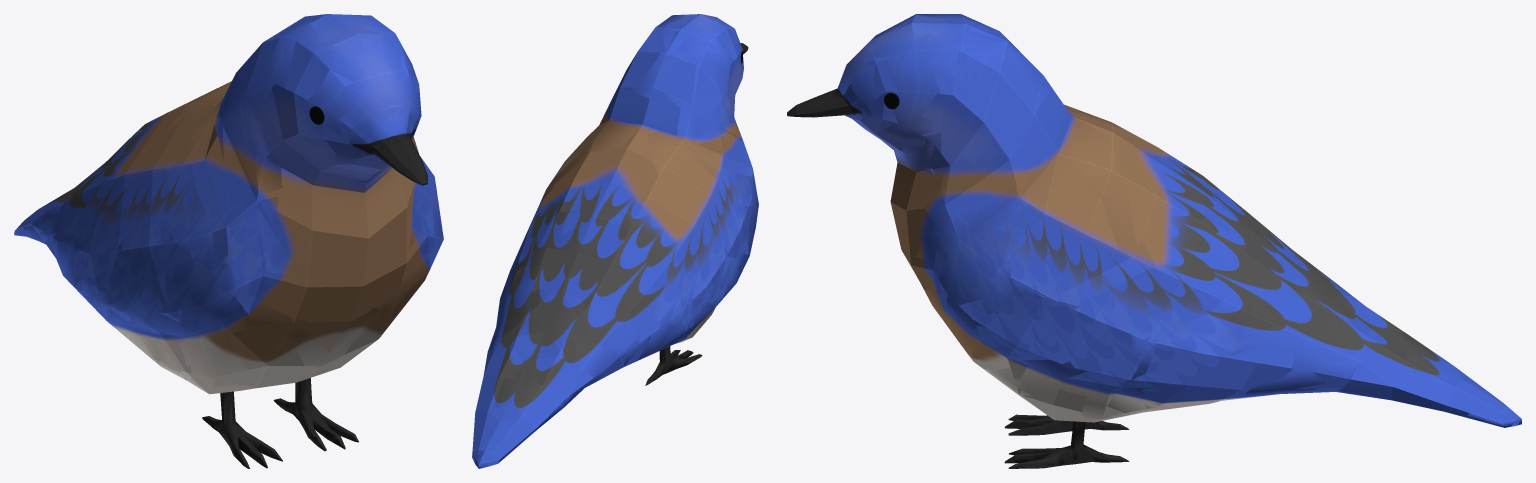
File: Westernbluebird.glb
3 views of the same model, side by side, from view 1: azimuth 30°, elevation 25°; view 2: azimuth 150°, elevation 25°; view 3: azimuth 270°, elevation 25° (orthographic). The views are drawn at different scales.
Parts seen in each view (by area): view 1: origin, WesternBluebird_Mesh_cell.032, WesternBluebird_Mesh_cell.064, WesternBluebird_Mesh_cell.018, WesternBluebird_Mesh_cell.040, WesternBluebird_Mesh_cell.057, WesternBluebird_Mesh_cell.036, WesternBluebird_Mesh_cell.007, WesternBluebird_Mesh_cell.061, WesternBluebird_Mesh_cell.010, WesternBluebird_Mesh_cell.029, WesternBluebird_Mesh_cell.021 (+6 smaller); view 2: origin, WesternBluebird_Mesh_cell.051, WesternBluebird_Mesh_cell.048, WesternBluebird_Mesh_cell.071, WesternBluebird_Mesh_cell.032, WesternBluebird_Mesh_cell.018, WesternBluebird_Mesh_cell.029, WesternBluebird_Mesh_cell.063, WesternBluebird_Mesh_cell.059, WesternBluebird_Mesh_cell.021, WesternBluebird_Mesh_cell.067, WesternBluebird_Mesh_cell.056 (+9 smaller); view 3: origin, WesternBluebird_Mesh_cell.057, WesternBluebird_Mesh_cell.032, WesternBluebird_Mesh_cell.048, WesternBluebird_Mesh_cell.026, WesternBluebird_Mesh_cell.051, WesternBluebird_Mesh_cell.049, WesternBluebird_Mesh_cell.037, WesternBluebird_Mesh_cell.072, WesternBluebird_Mesh_cell.067, WesternBluebird_Mesh_cell.027, WesternBluebird_Mesh_cell.023 (+3 smaller).
Part boxes in pixels (box(x1,y1,x2,y2)): origin: box(14, 14, 433, 468); WesternBluebird_Mesh_cell.032: box(240, 14, 419, 195); WesternBluebird_Mesh_cell.064: box(112, 254, 245, 353); WesternBluebird_Mesh_cell.018: box(165, 101, 258, 265); WesternBluebird_Mesh_cell.040: box(234, 263, 393, 368); WesternBluebird_Mesh_cell.057: box(373, 156, 443, 318); WesternBluebird_Mesh_cell.036: box(126, 317, 247, 387); WesternBluebird_Mesh_cell.007: box(255, 165, 392, 273); WesternBluebird_Mesh_cell.061: box(81, 279, 158, 360); WesternBluebird_Mesh_cell.010: box(100, 217, 175, 301); WesternBluebird_Mesh_cell.029: box(112, 87, 228, 175); WesternBluebird_Mesh_cell.021: box(51, 229, 96, 310); origin: box(472, 14, 756, 467); WesternBluebird_Mesh_cell.051: box(589, 27, 719, 151); WesternBluebird_Mesh_cell.048: box(495, 264, 559, 340); WesternBluebird_Mesh_cell.071: box(555, 236, 661, 348); WesternBluebird_Mesh_cell.032: box(656, 14, 743, 135); WesternBluebird_Mesh_cell.018: box(691, 101, 756, 205); WesternBluebird_Mesh_cell.029: box(587, 145, 698, 246); WesternBluebird_Mesh_cell.063: box(586, 225, 688, 309); WesternBluebird_Mesh_cell.059: box(536, 290, 589, 362); WesternBluebird_Mesh_cell.021: box(623, 297, 687, 366); WesternBluebird_Mesh_cell.067: box(534, 209, 589, 264); WesternBluebird_Mesh_cell.056: box(563, 345, 624, 405); origin: box(787, 14, 1521, 468); WesternBluebird_Mesh_cell.057: box(916, 167, 1014, 353); WesternBluebird_Mesh_cell.032: box(831, 14, 982, 148); WesternBluebird_Mesh_cell.048: box(1243, 253, 1344, 362); WesternBluebird_Mesh_cell.026: box(1012, 174, 1155, 304); WesternBluebird_Mesh_cell.051: box(955, 24, 1117, 177); WesternBluebird_Mesh_cell.049: box(1160, 243, 1265, 356); WesternBluebird_Mesh_cell.037: box(978, 304, 1119, 405); WesternBluebird_Mesh_cell.072: box(1230, 340, 1344, 396); WesternBluebird_Mesh_cell.067: box(1198, 199, 1265, 277); WesternBluebird_Mesh_cell.027: box(1327, 336, 1515, 427); WesternBluebird_Mesh_cell.023: box(1107, 338, 1215, 413).
Size of the model in its own units: 0.6694 by 1.06 by 1.67.
1 material, 1 textured.
